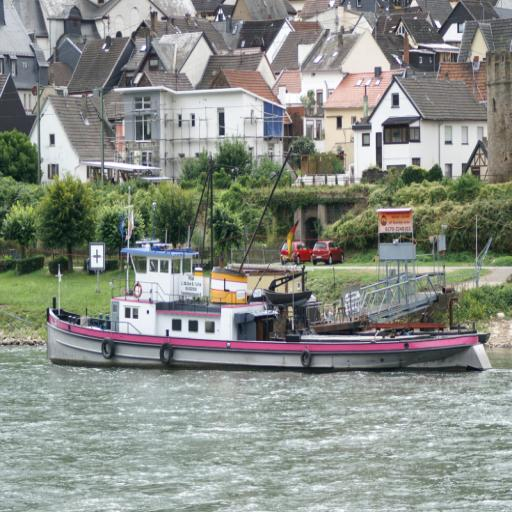tugboat: (44, 185, 497, 384)
